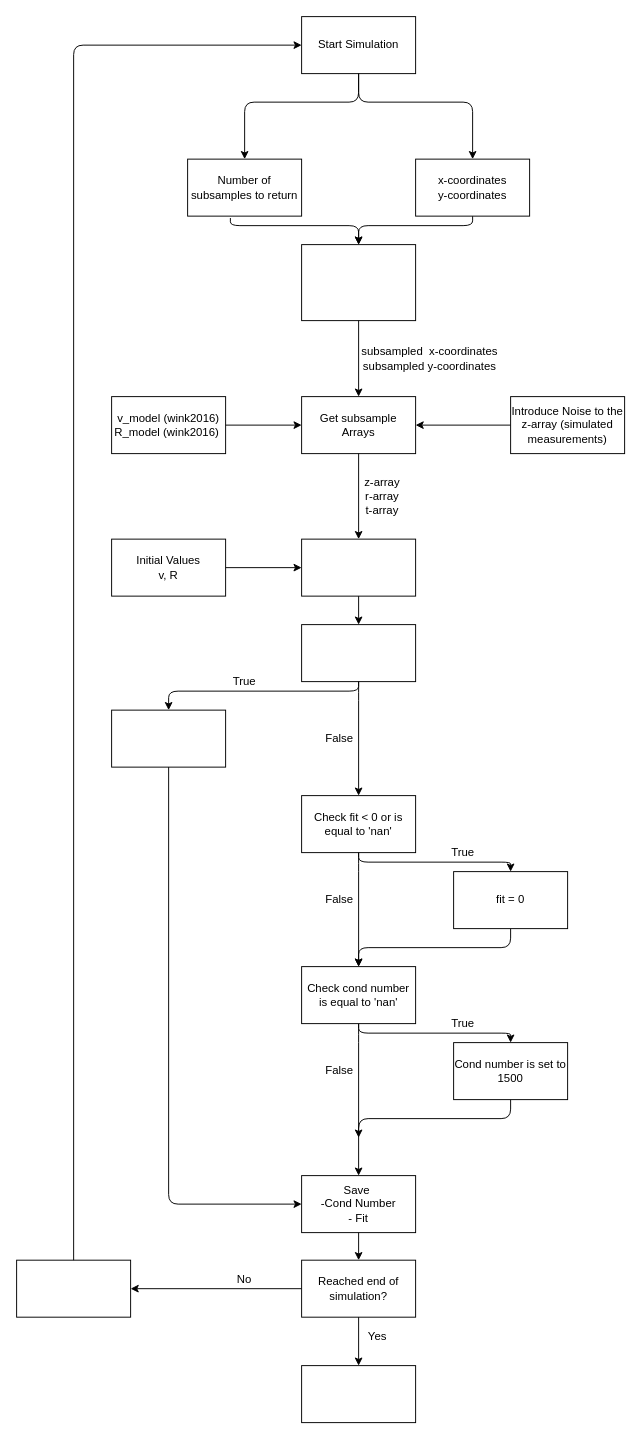
Image size: 641x1439. Some labels were removed from this diagram. Here are the shapes that lost their labels. From the top down, the centre of each, then its label:
(x=358, y=282): Get Random Subsamples
(x=358, y=567): Inverse Kinematic Model
(x=358, y=653): Check if matrix is singular
(x=168, y=738): ehat = 0 y = 0 fit = 0 cond number = 0
(x=73, y=1288): Restart Simulation
(x=358, y=1394): Stop
